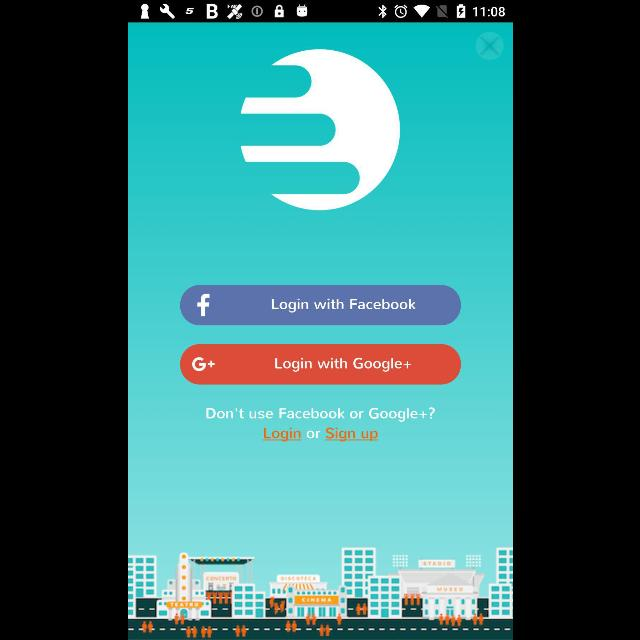icon: (474, 32, 504, 60)
image: (128, 546, 512, 640), (240, 49, 400, 210)
text: (206, 408, 434, 422), (262, 428, 378, 442)
textbutton: (180, 344, 460, 386), (180, 284, 460, 326)
uppertaskbar: (128, 1, 512, 23)
